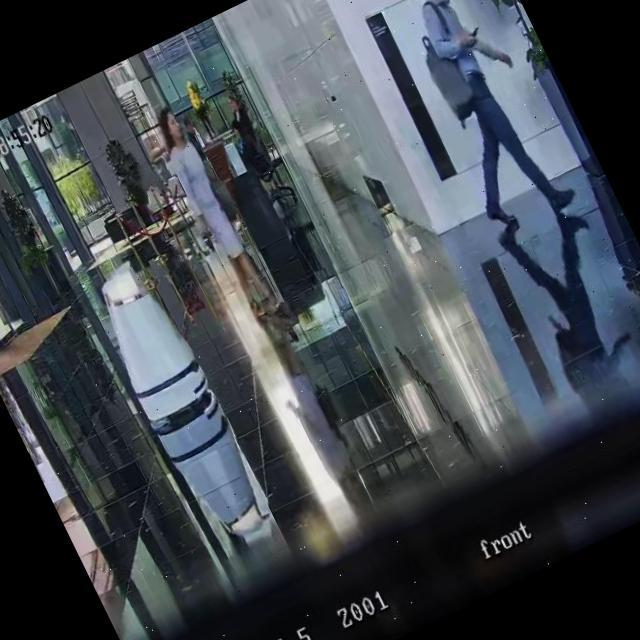person: (369, 0, 582, 240), (148, 101, 278, 321), (227, 114, 270, 178), (222, 89, 258, 141), (180, 112, 210, 158)
